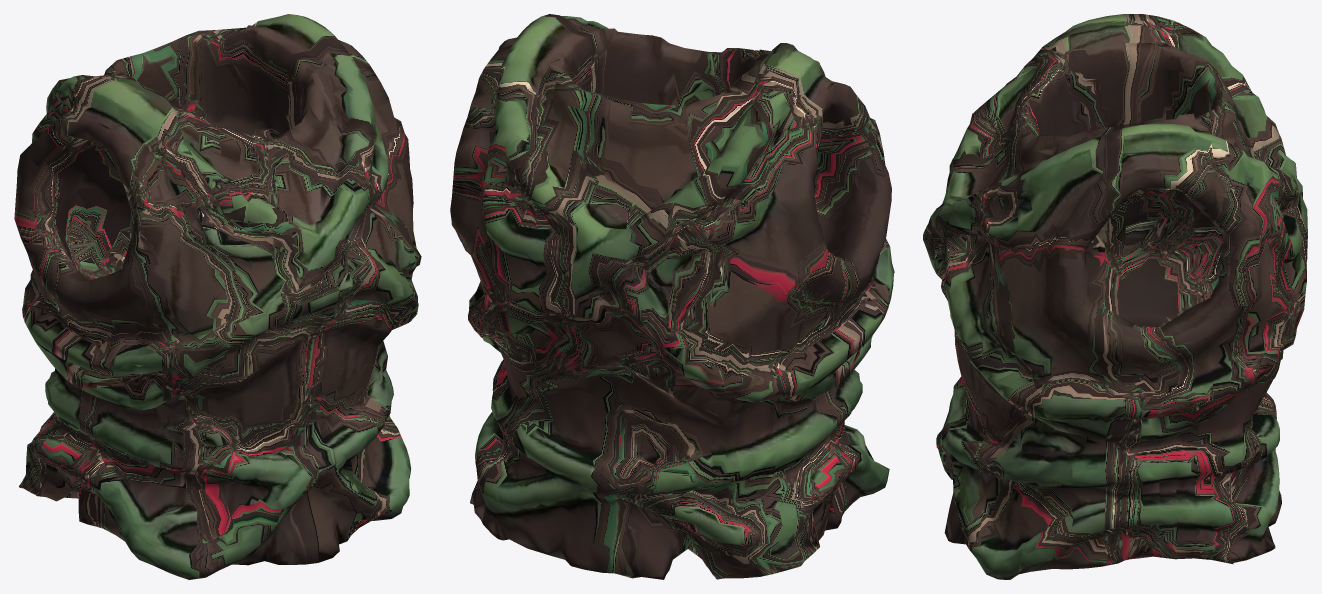
Rendered from totem_chest.glb.
3 views of the same model, side by side, from view 1: azimuth 30°, elevation 25°; view 2: azimuth 150°, elevation 25°; view 3: azimuth 270°, elevation 25° (orthographic). The views are drawn at different scales.
Size of the model in its own units: 0.3447 by 0.435 by 0.3286.
1 material, 1 textured.
